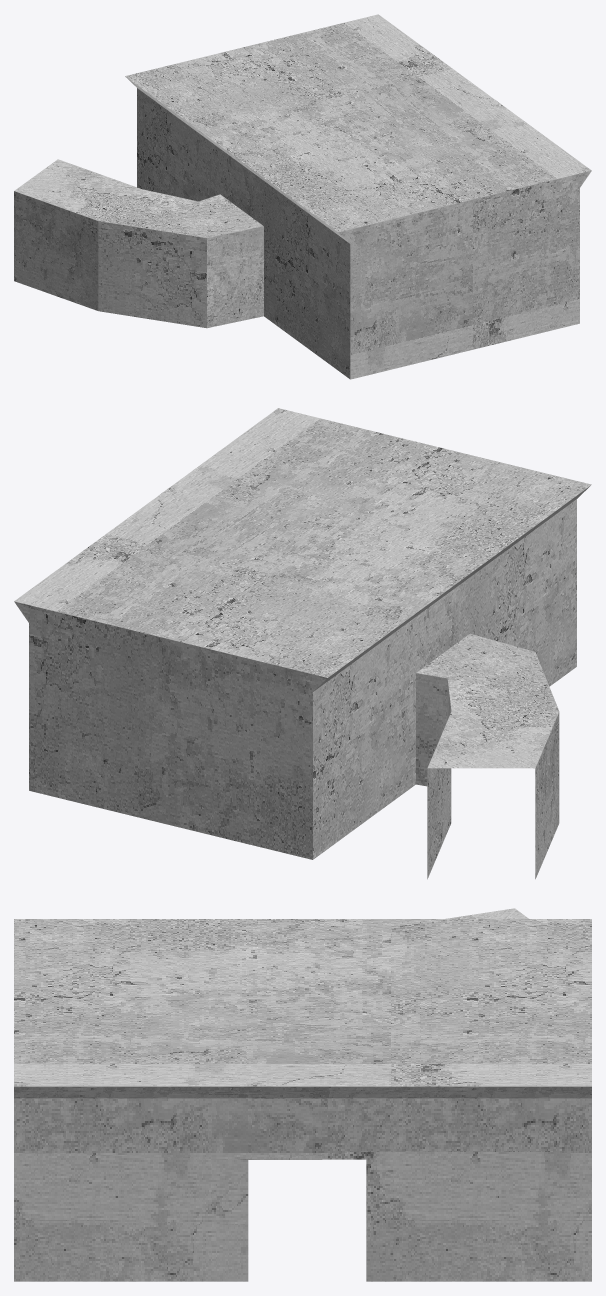
The model's file is sewerdoor.glb.
3 renders of one model, top to bottom at view 1: azimuth 30°, elevation 25°; view 2: azimuth 150°, elevation 25°; view 3: azimuth 270°, elevation 25°, orthographic. The views are drawn at different scales.
Parts seen in each view (by area): view 1: Cube; view 2: Cube; view 3: Cube.
Boxes of the visible parts, x1,y1,x2,y2 form: Cube: (14, 14, 591, 379); Cube: (14, 408, 591, 879); Cube: (14, 908, 591, 1281).
Bounding box in the file's own units: 24.92 × 9.09 × 23.45.
1 material, 1 textured.
